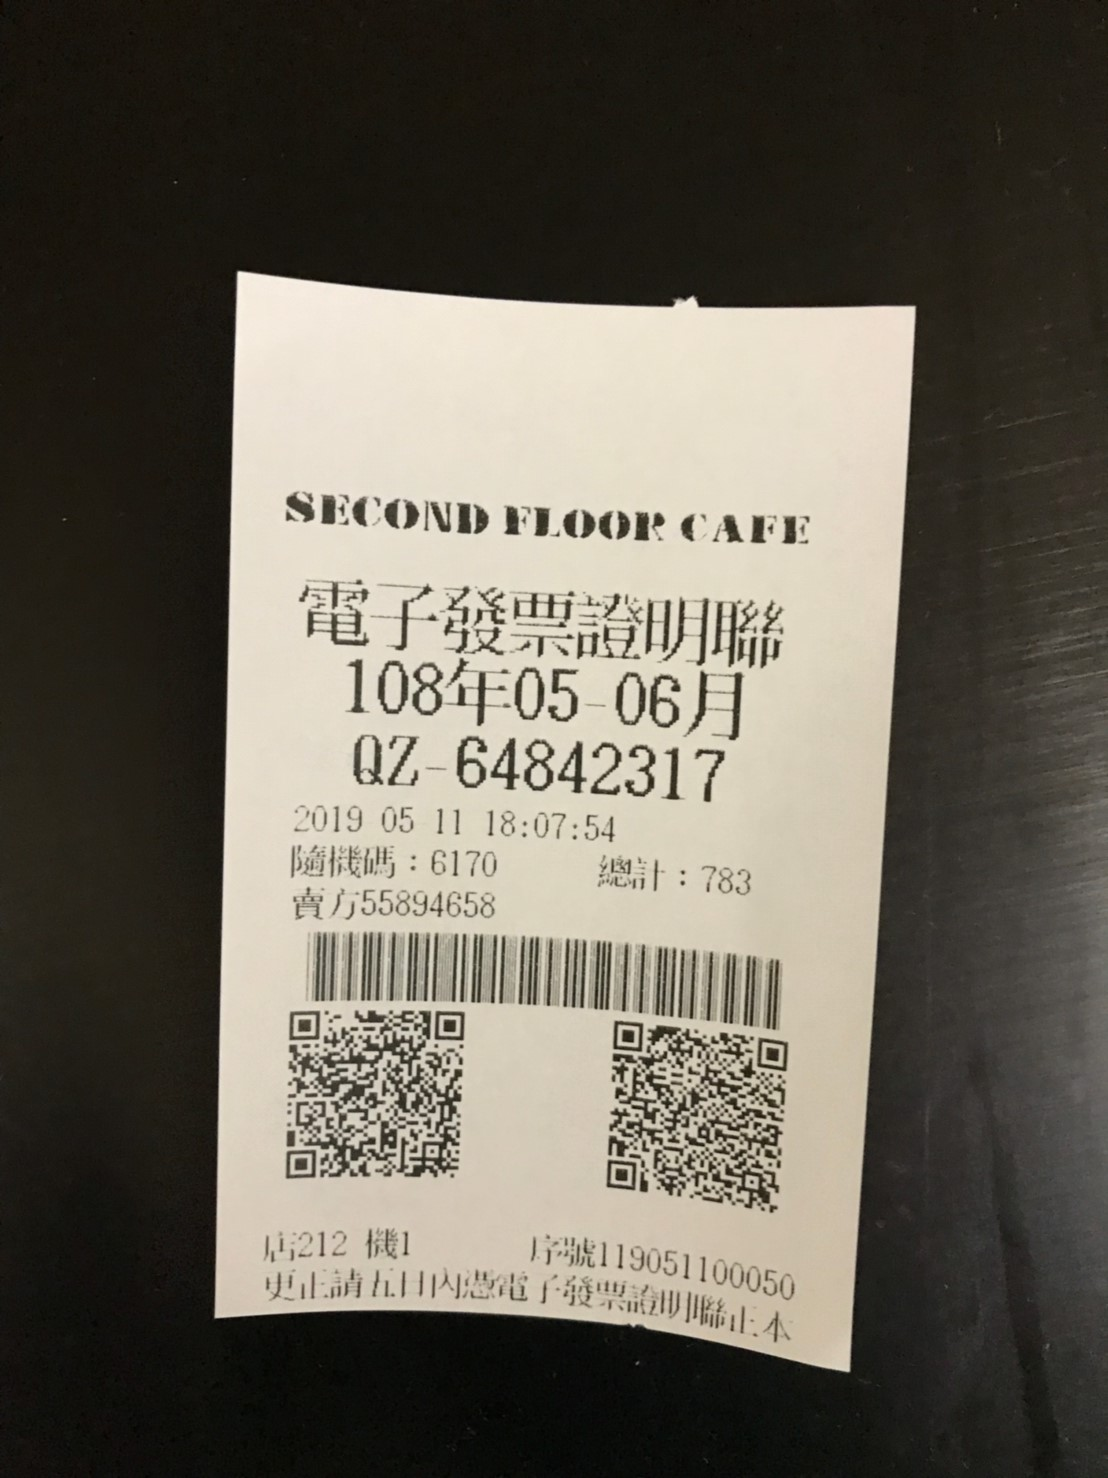Date_New: (342, 655, 748, 742)
Number_New: (452, 725, 731, 806)
